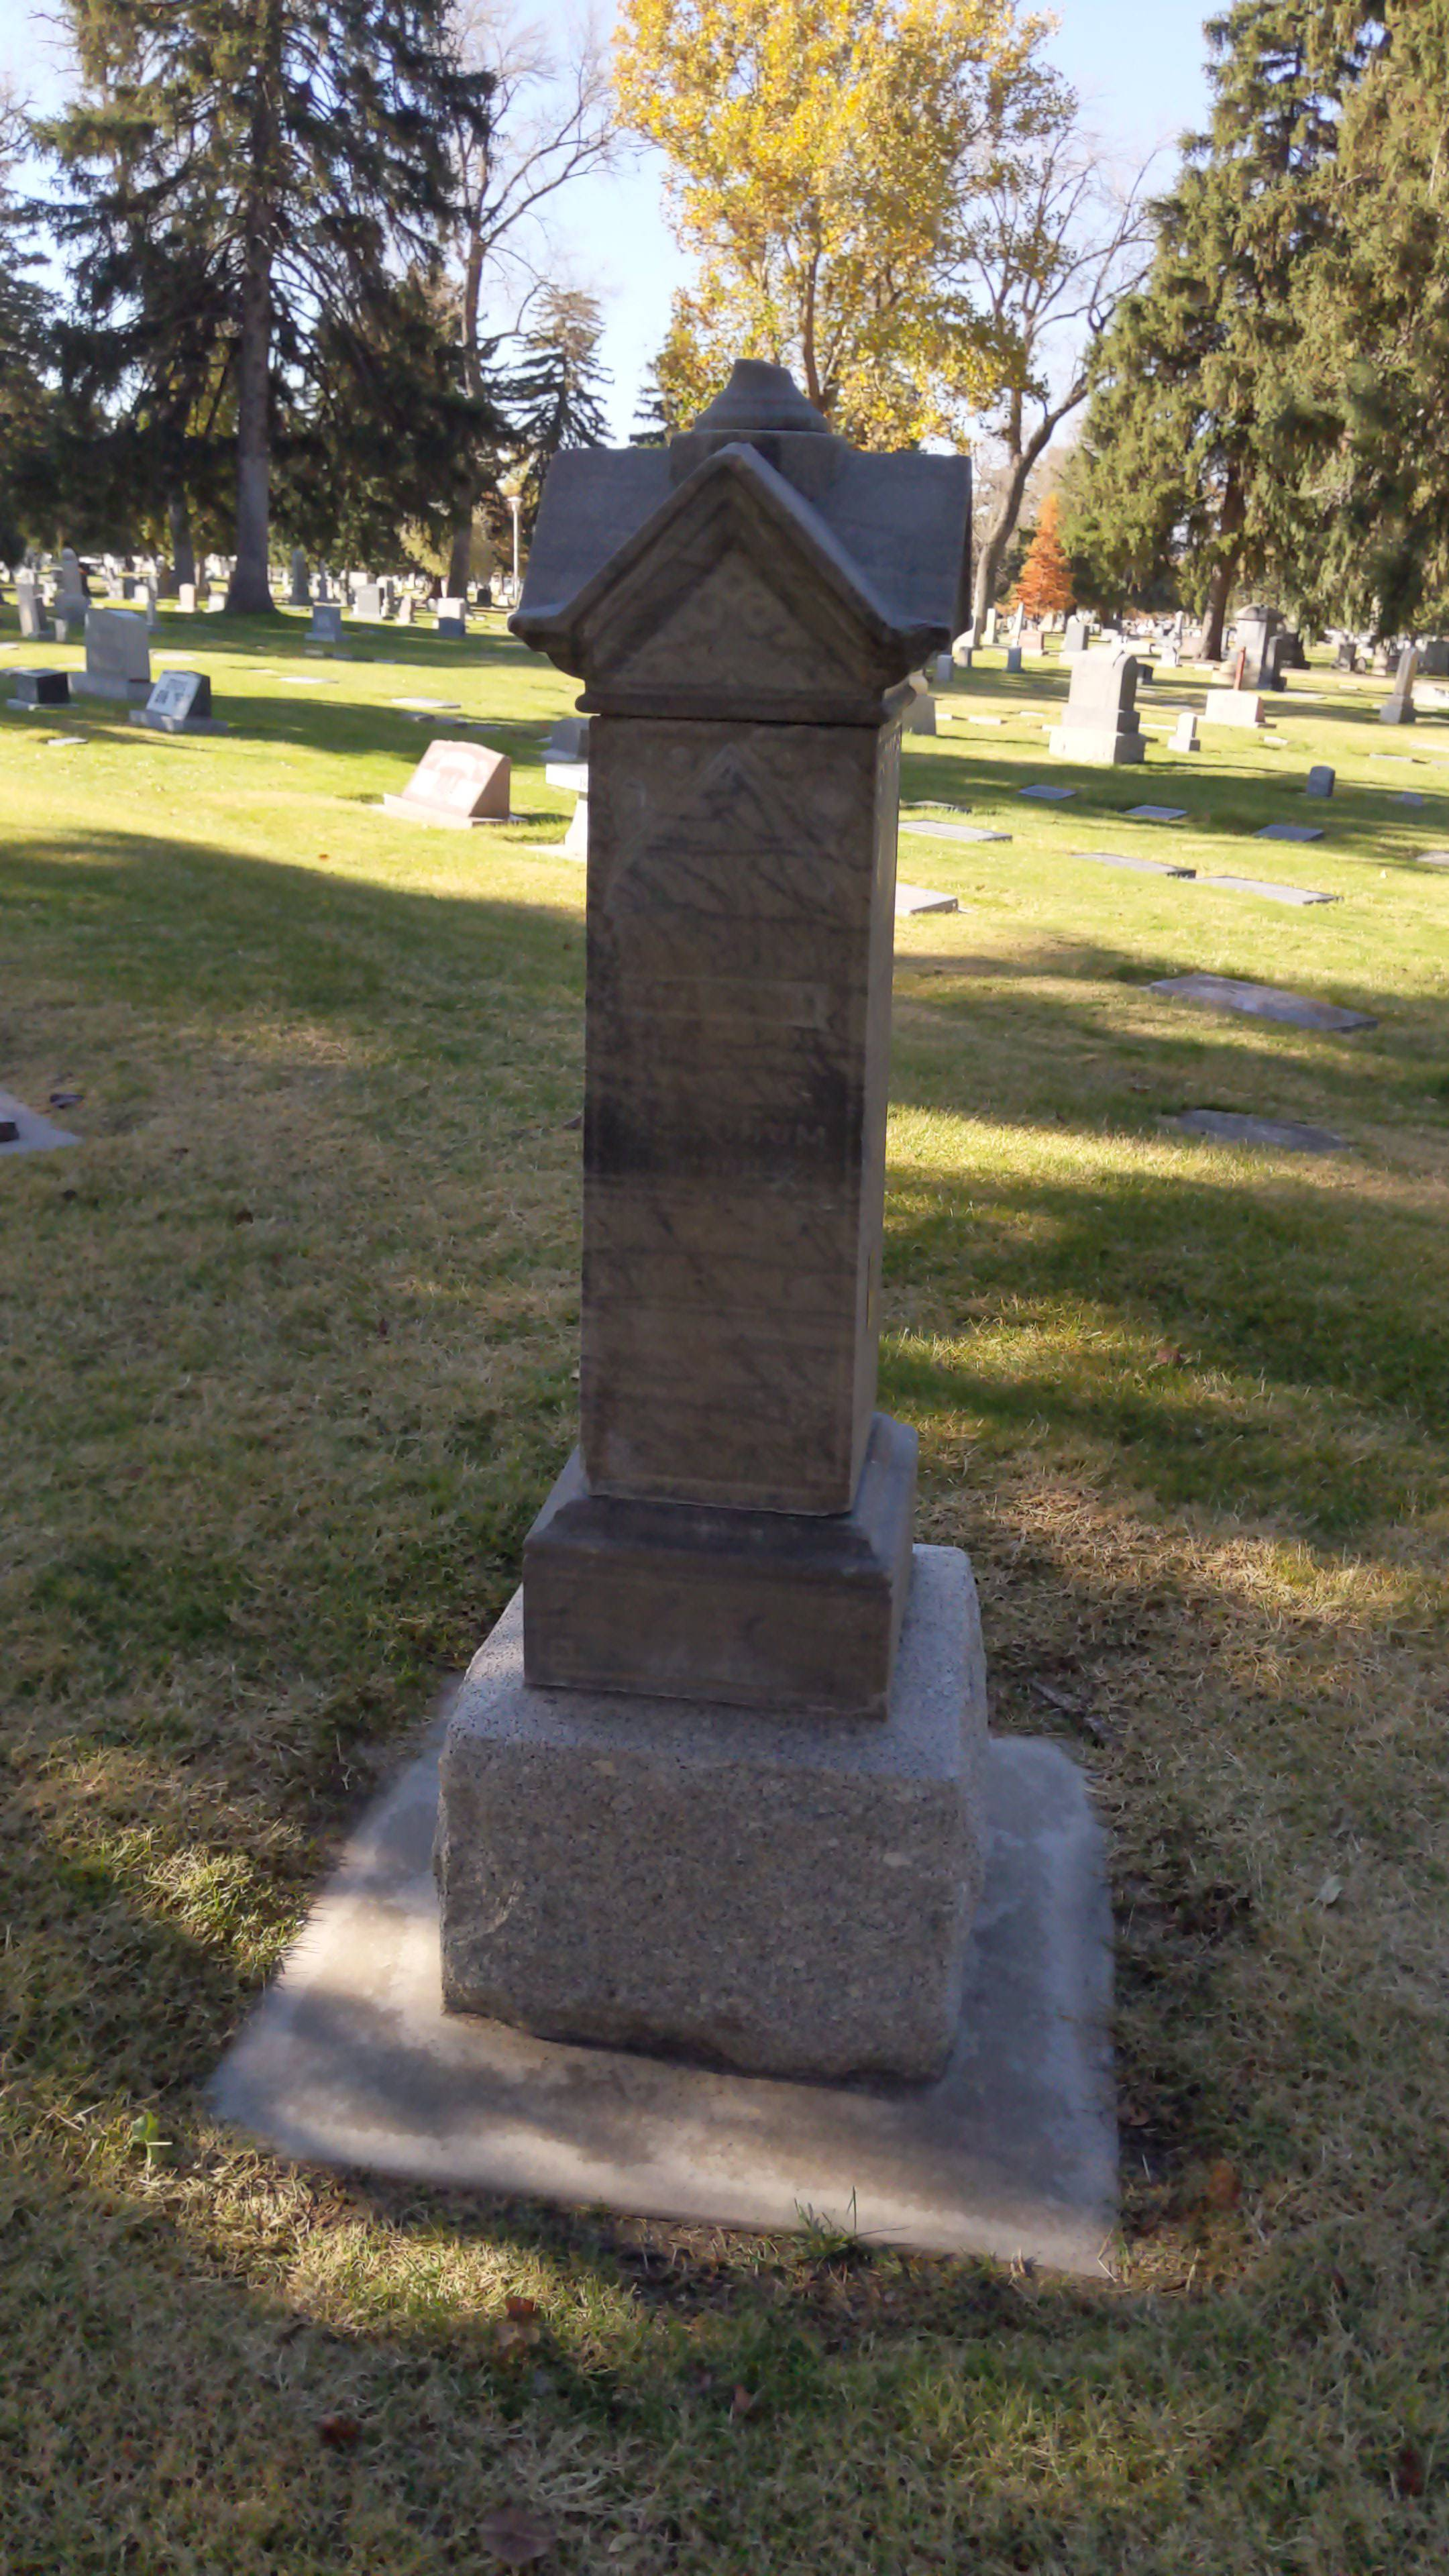obelisk: (479, 361, 975, 1727)
